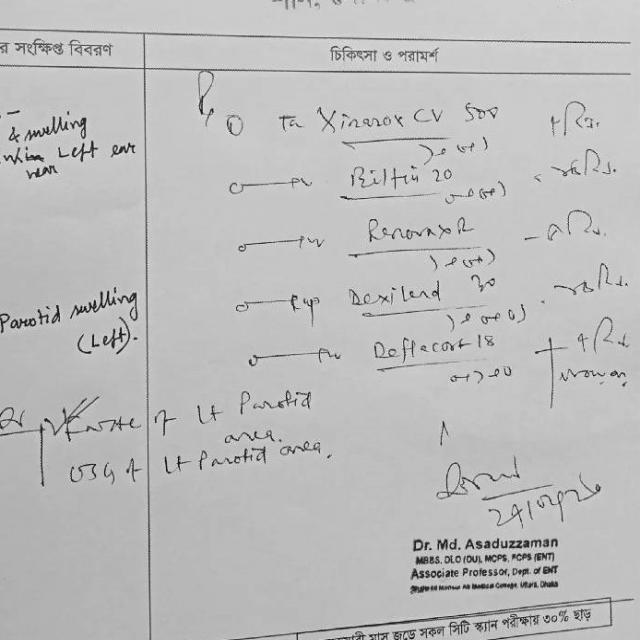medicine: (312, 98, 451, 140), (359, 214, 474, 248), (342, 276, 450, 312), (367, 332, 474, 367), (346, 160, 426, 192)
